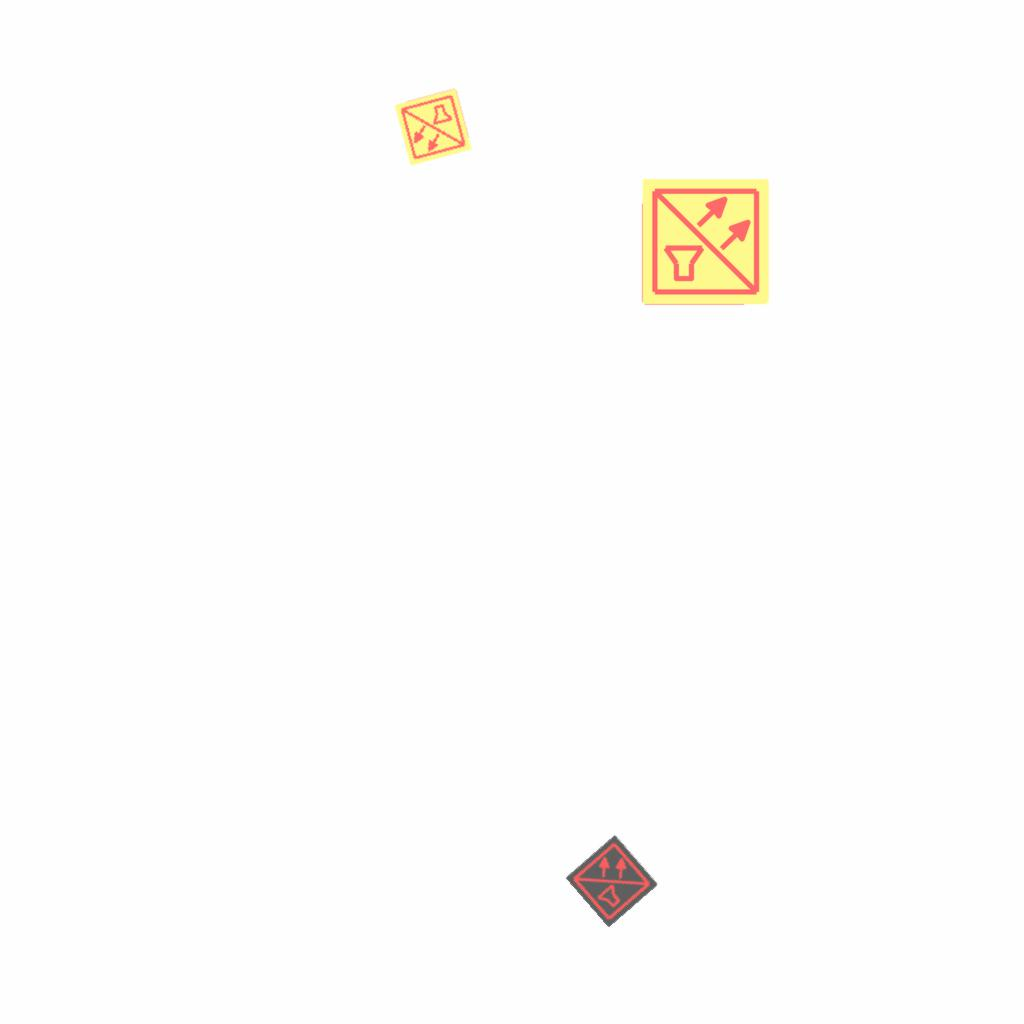OKW_Multisensormelder_(Kombination_optischer_Rauch-Kahlenmonoxid_Waerme-Melder): (640, 176, 772, 308), (565, 834, 659, 928), (392, 86, 474, 168)
